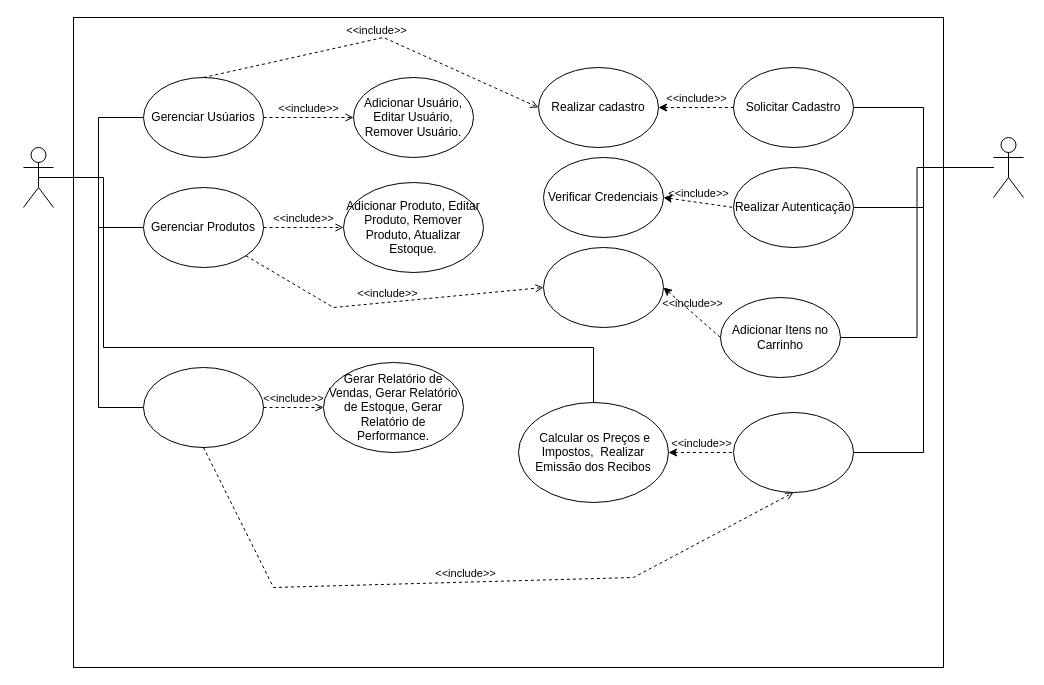
This 1044x685 diagram has some shape labels left out. The shapes that lost their labels are listed below. From the top down, each one's centre as x and y in pixels, then its label:
At (x=38, y=177): "Gerente".
At (x=1008, y=167): "Cliente".
At (x=603, y=287): "Verificar Estoque".
At (x=203, y=407): "Gerar Relatórios e Analises".
At (x=793, y=452): "Finalizar Compra".
